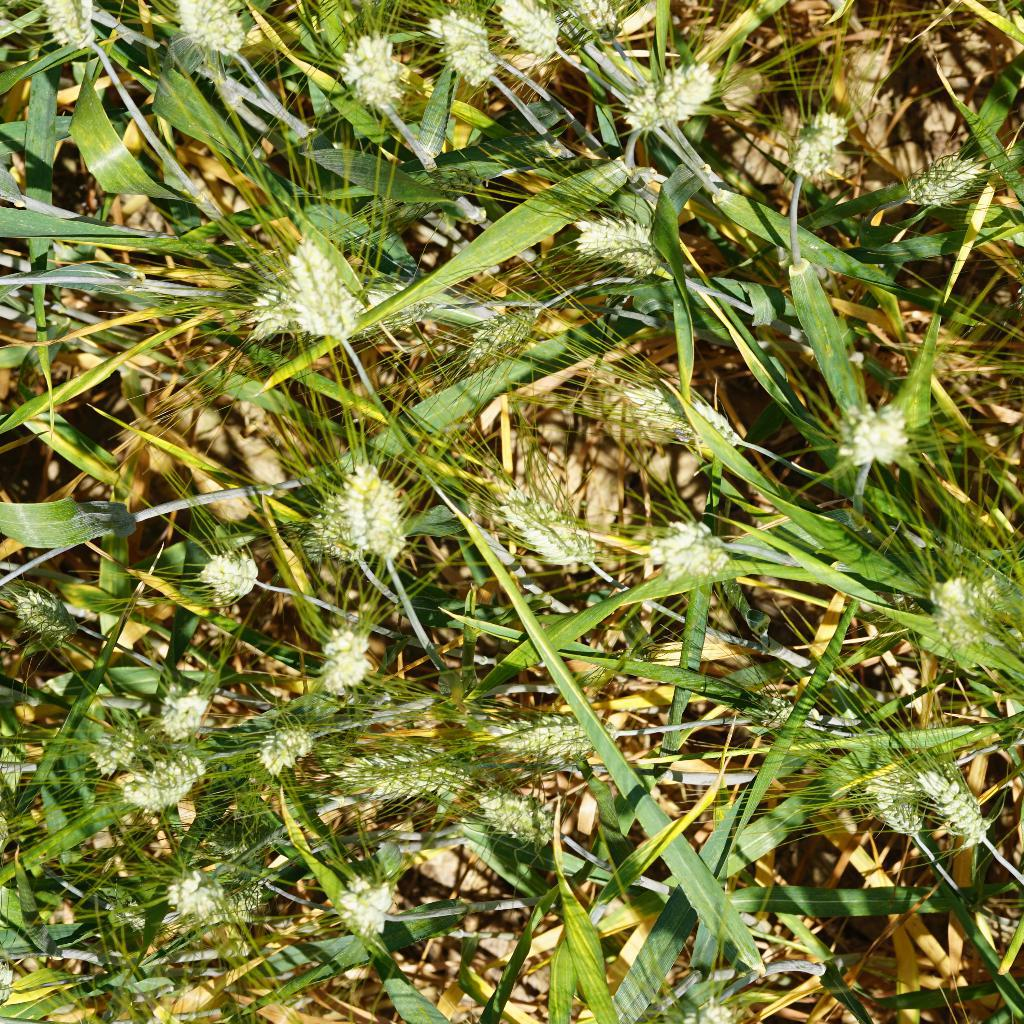0-0: (240, 279, 463, 362), (608, 366, 744, 459), (494, 475, 602, 575), (482, 698, 627, 770), (918, 565, 1015, 664), (337, 739, 478, 806), (432, 301, 546, 377), (462, 768, 570, 848), (616, 66, 732, 139), (281, 230, 355, 344), (822, 387, 918, 474), (557, 209, 669, 283), (916, 763, 1002, 844), (643, 509, 733, 586), (299, 477, 381, 561), (335, 37, 414, 123), (426, 7, 504, 94), (896, 146, 996, 213), (482, 0, 572, 67), (337, 873, 418, 945), (165, 859, 251, 926), (847, 755, 918, 836), (354, 473, 415, 567), (310, 616, 380, 697), (784, 96, 848, 182), (115, 754, 213, 807), (6, 580, 75, 649), (171, 0, 254, 55), (201, 544, 271, 608), (554, 0, 646, 48), (150, 677, 217, 742), (29, 0, 105, 51), (257, 716, 318, 777), (656, 985, 737, 1024), (92, 713, 142, 772), (746, 687, 805, 737)
